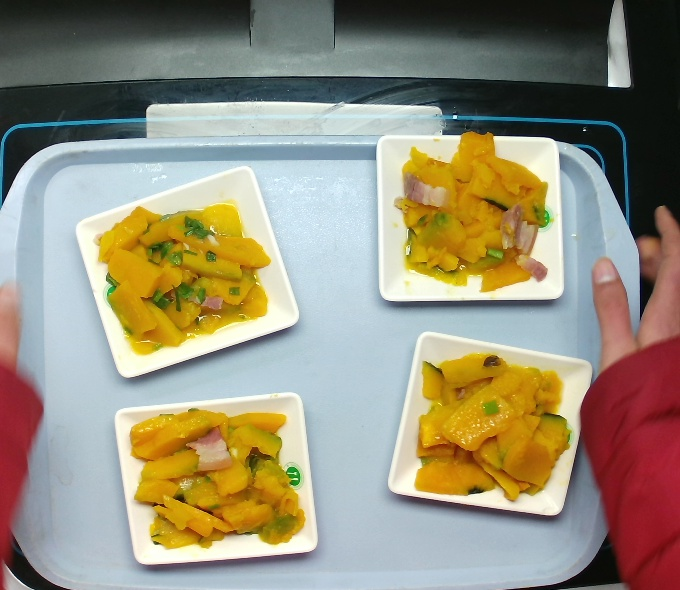wcq-NanGuaChaoLaRou: (89, 201, 278, 358), (391, 130, 556, 296), (125, 405, 310, 551), (408, 348, 575, 505)
